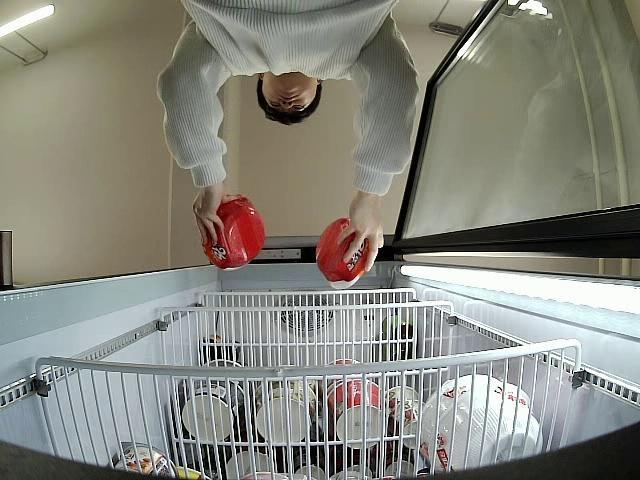10_wangTtukkeong: (202, 192, 268, 272), (316, 218, 370, 289)
